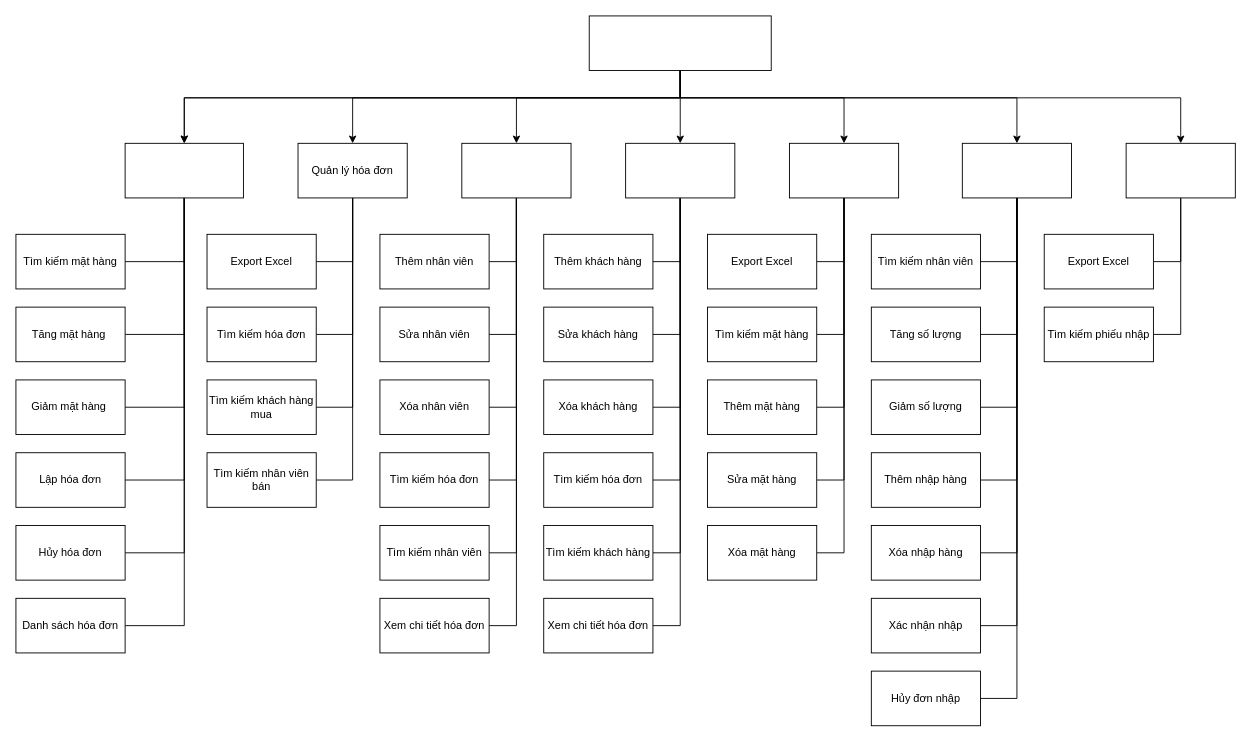
The diagram is 1251 pixels wide and 742 high, and some of its shapes have lost their labels. The centre of each missing label's shape, as x and y in pixels:
"Quản lý bán hàng" goes at point 183,170.
"Quản lý khách hàng" goes at point 680,170.
"Quản lý Mini Store Manager" goes at point 679,43.
"Quản lý mặt hàng" goes at point 844,170.
"Quản lý nhân viên" goes at point 516,170.
"Quản lý nhập hàng" goes at point 1016,170.
"Quản lý phiếu nhập" goes at point 1180,170.
